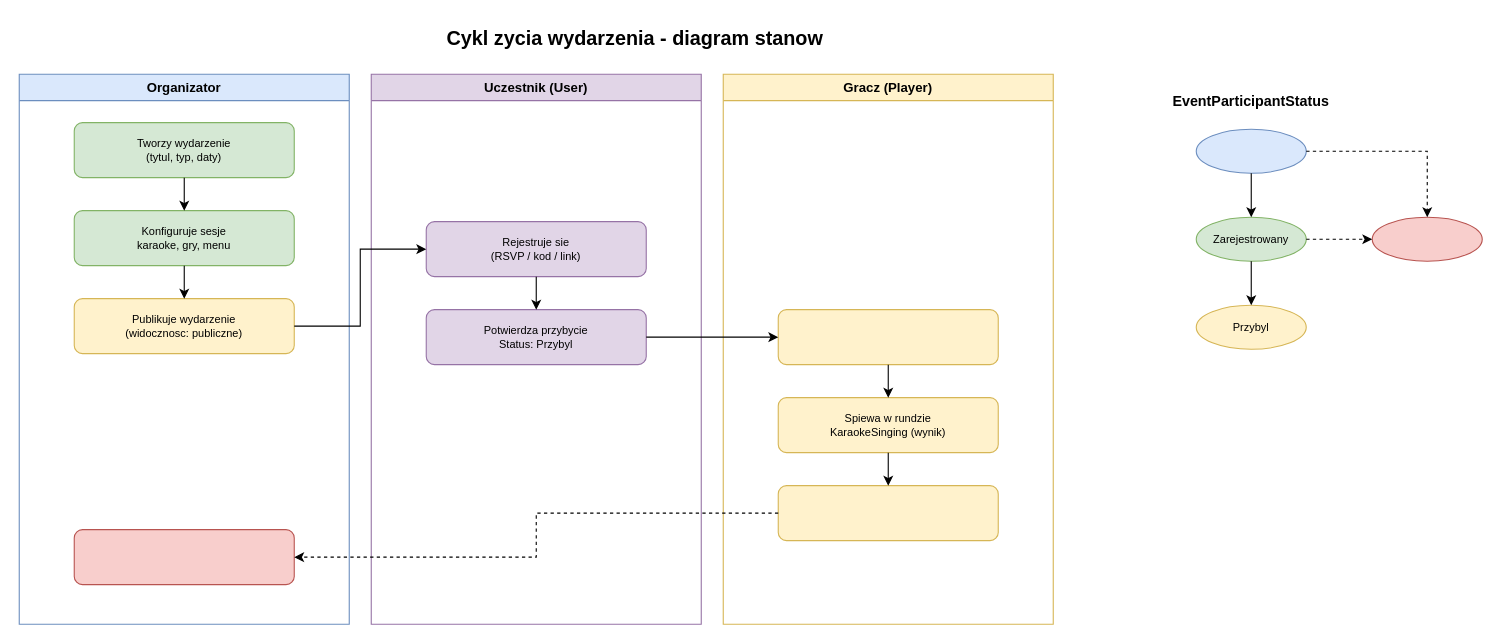
The diagram is 1502 pixels wide and 644 high, and some of its shapes have lost their labels. Here are the shapes that lost their labels. From the top down, the box of each, then its label:
(1195, 128, 1306, 173): Zaproszony
(1371, 216, 1482, 261): Anulowany
(777, 309, 998, 365): Dolacza do sesji KaraokeSessionPlayer
(777, 485, 998, 541): Wyniki i nagrania Nagrania, Nuty
(73, 529, 294, 585): Zamyka wydarzenie Status: Zakonczone
